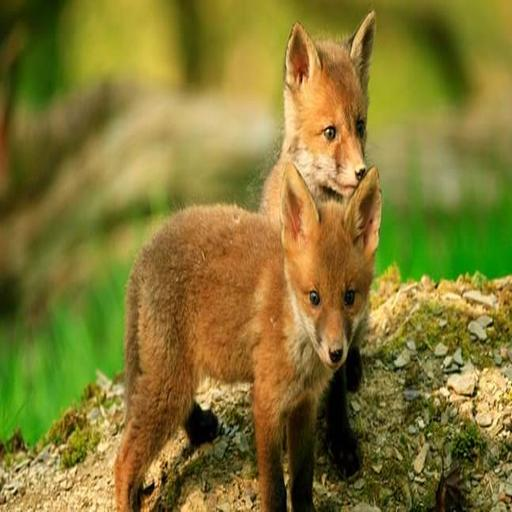Fox: (106, 168, 394, 512), (230, 8, 392, 409)
